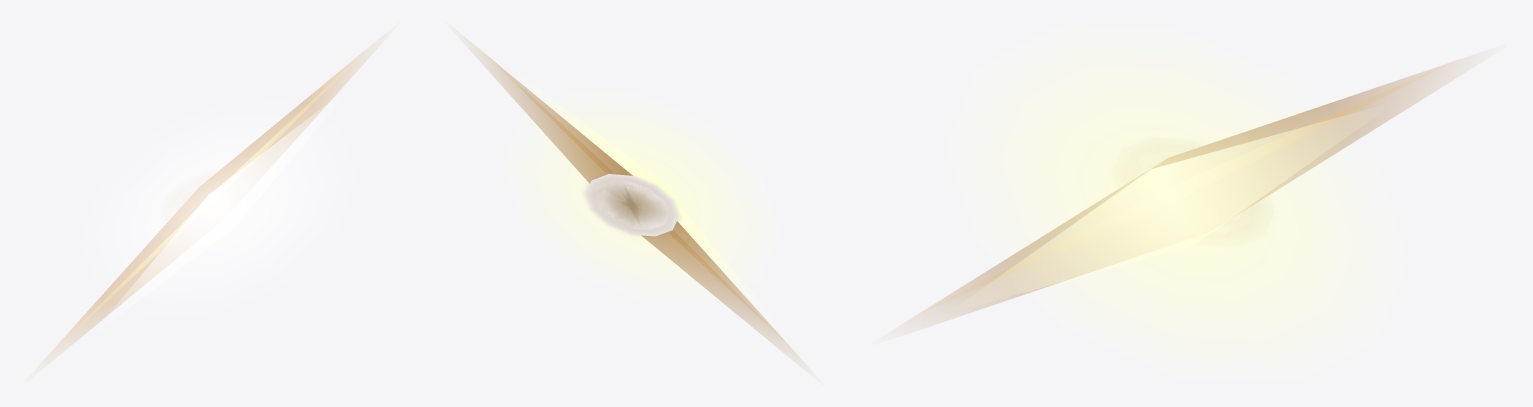
The model's file is soft_contact_polish.glb.
3 renders of one model, left to right at view 1: azimuth 30°, elevation 25°; view 2: azimuth 150°, elevation 25°; view 3: azimuth 330°, elevation 25°, orthographic. The views are drawn at different scales.
Parts seen in each view (by area): view 1: core, scar; view 2: core, scar, chip_01; view 3: core, scar.
Boxes of the visible parts, <box> form: core: <box>96,99,340,318</box>; scar: <box>45,41,376,359</box>; core: <box>519,84,763,303</box>; scar: <box>472,44,799,358</box>; chip_01: <box>609,190,647,221</box>; core: <box>974,46,1380,360</box>; scar: <box>912,60,1460,323</box>.
Size of the model in its own units: 0.2889 by 0.1976 by 0.016.
